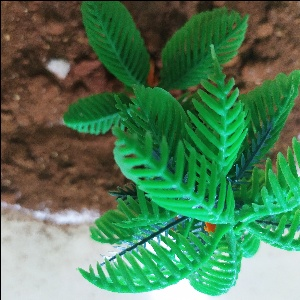plant: (63, 1, 300, 296)
